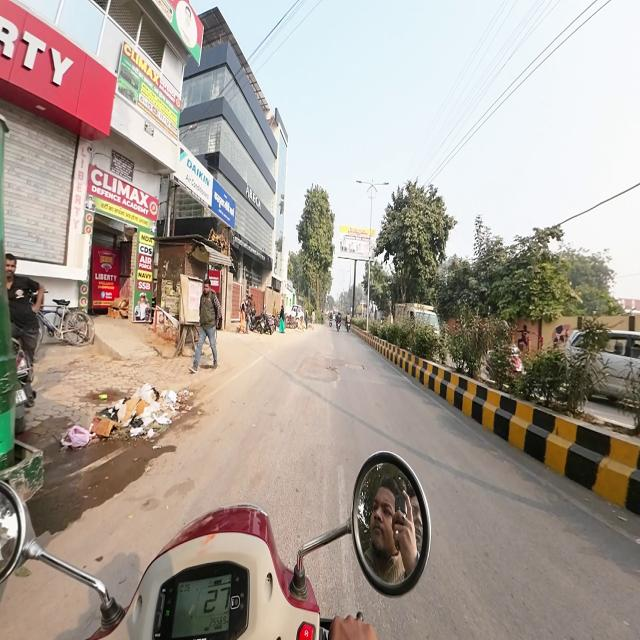Garbage: (125, 387, 177, 430), (91, 402, 126, 438), (61, 419, 91, 449)
